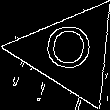O_S: (44, 25, 96, 80)
